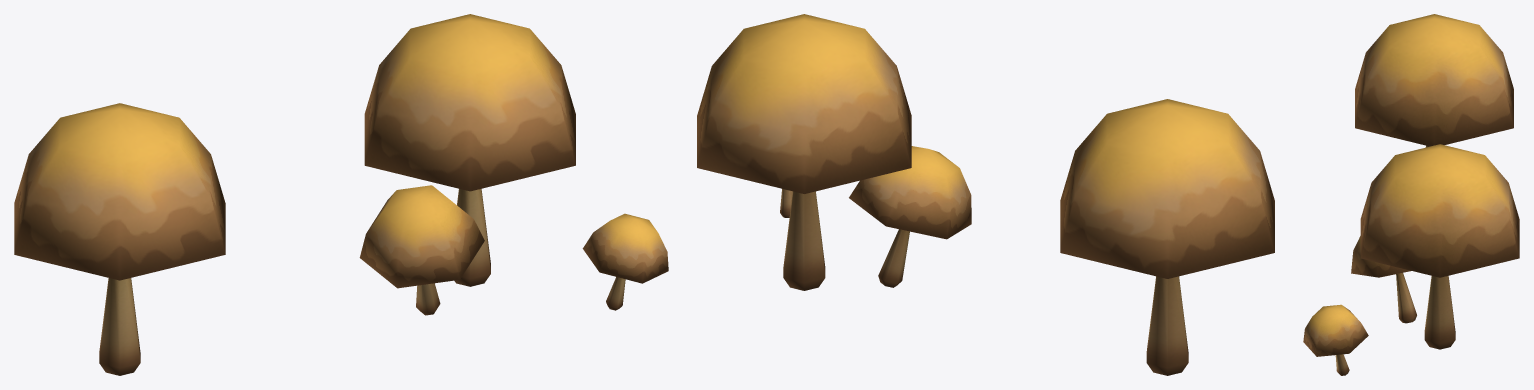
The model's file is Mushroom_08.FBX.
3 renders of one model, left to right at view 1: azimuth 30°, elevation 25°; view 2: azimuth 150°, elevation 25°; view 3: azimuth 270°, elevation 25°, orthographic. The views are drawn at different scales.
Parts seen in each view (by area): view 1: Mushroom 8_group, Mushroom 8_single; view 2: Mushroom 8_group, Mushroom 8_single; view 3: Mushroom 8_group, Mushroom 8_single.
Boxes of the visible parts, left/top/right/bottom form: Mushroom 8_group: left=359, top=14, right=668, bottom=315; Mushroom 8_single: left=14, top=103, right=225, bottom=375; Mushroom 8_group: left=697, top=14, right=971, bottom=290; Mushroom 8_single: left=1060, top=99, right=1274, bottom=375; Mushroom 8_group: left=1303, top=144, right=1519, bottom=375; Mushroom 8_single: left=1355, top=14, right=1513, bottom=147.
Bounding box in the file's own units: 21.45 × 9.22 × 9.18.
Materials: 1 (1 with a texture image).
